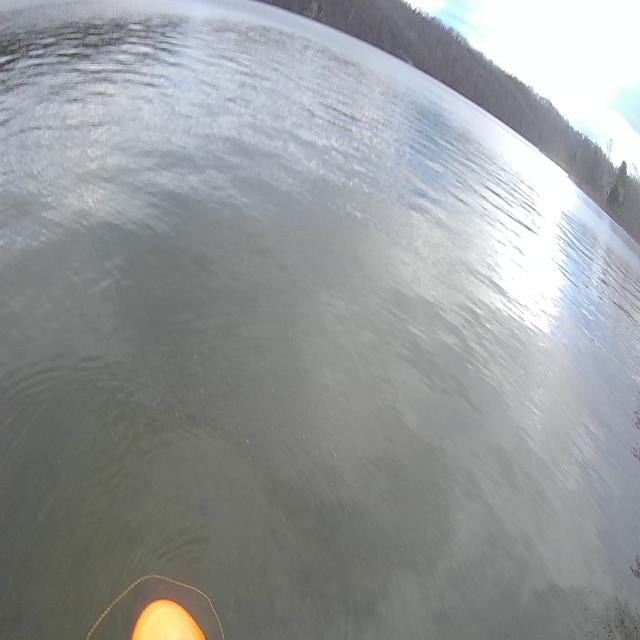Buoy: (125, 595, 212, 640)
